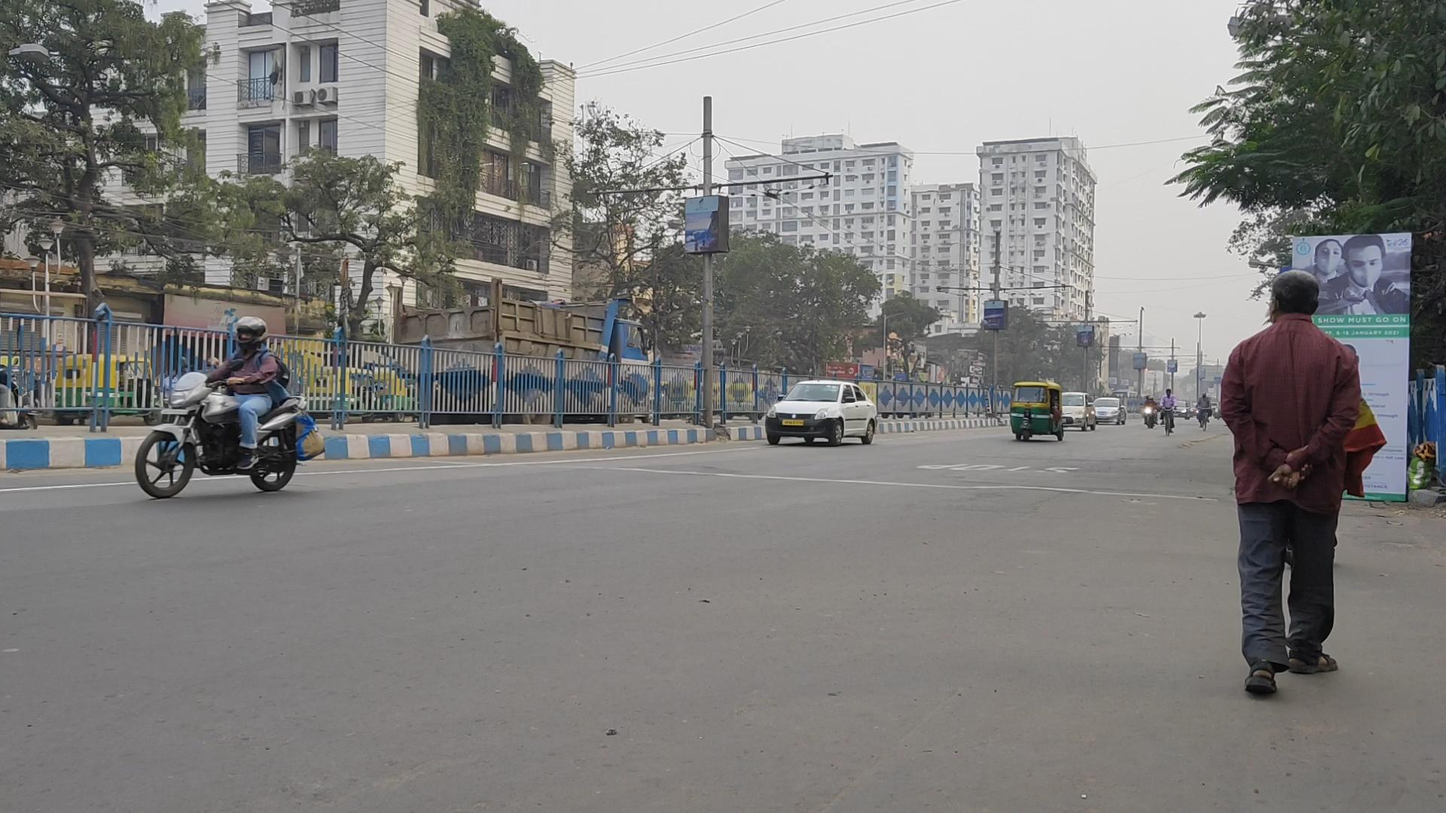Auto: (1009, 381, 1063, 443)
bike: (135, 316, 308, 500), (1159, 388, 1177, 436), (1140, 394, 1160, 430), (1196, 391, 1213, 432)
car: (765, 379, 877, 446), (1060, 391, 1097, 433), (1092, 397, 1127, 427), (1173, 400, 1191, 421)
